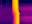Hotspot: (13, 0, 20, 23)
